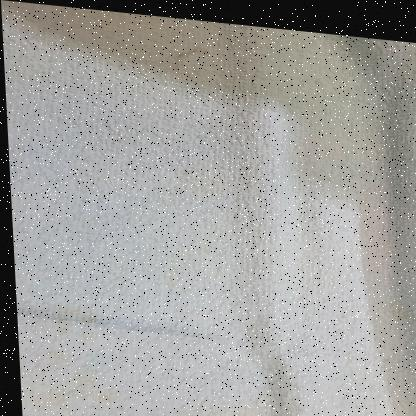spot: (23, 300, 232, 341), (36, 356, 121, 416), (50, 383, 112, 416), (165, 40, 206, 86), (226, 412, 247, 416)
